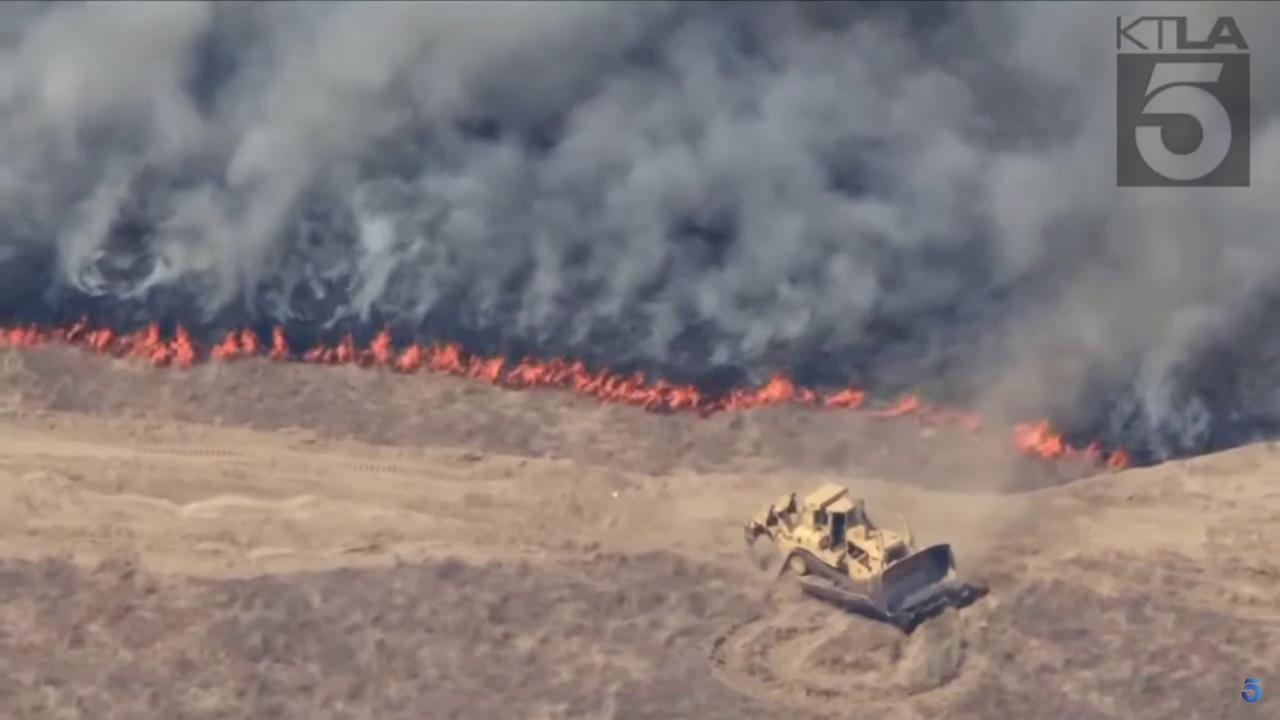fire: (299, 324, 988, 437), (0, 316, 291, 366), (1008, 415, 1129, 471)
smoke: (0, 0, 1280, 457)
